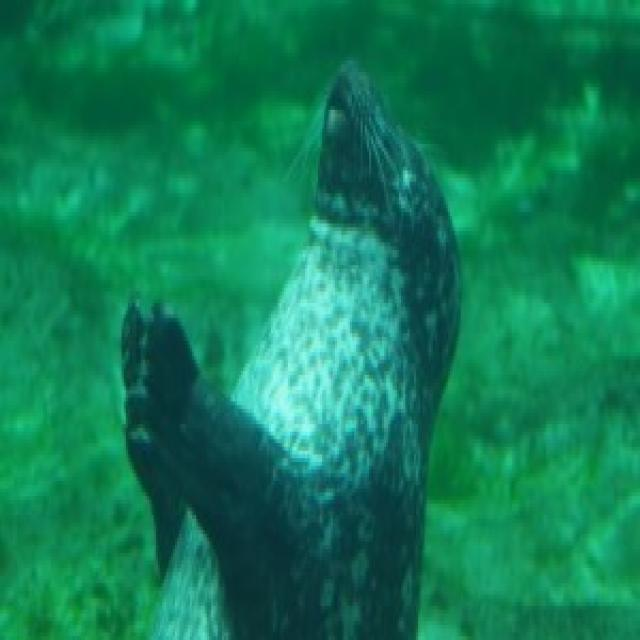Seal: (88, 43, 475, 640)
